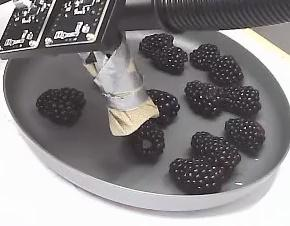berry: (191, 131, 240, 180), (169, 156, 225, 193), (36, 87, 85, 125), (185, 80, 226, 117), (225, 118, 264, 155), (130, 118, 164, 160), (146, 89, 179, 123), (207, 55, 243, 85), (225, 86, 260, 116), (151, 46, 187, 74), (190, 44, 219, 70), (139, 33, 173, 55)
